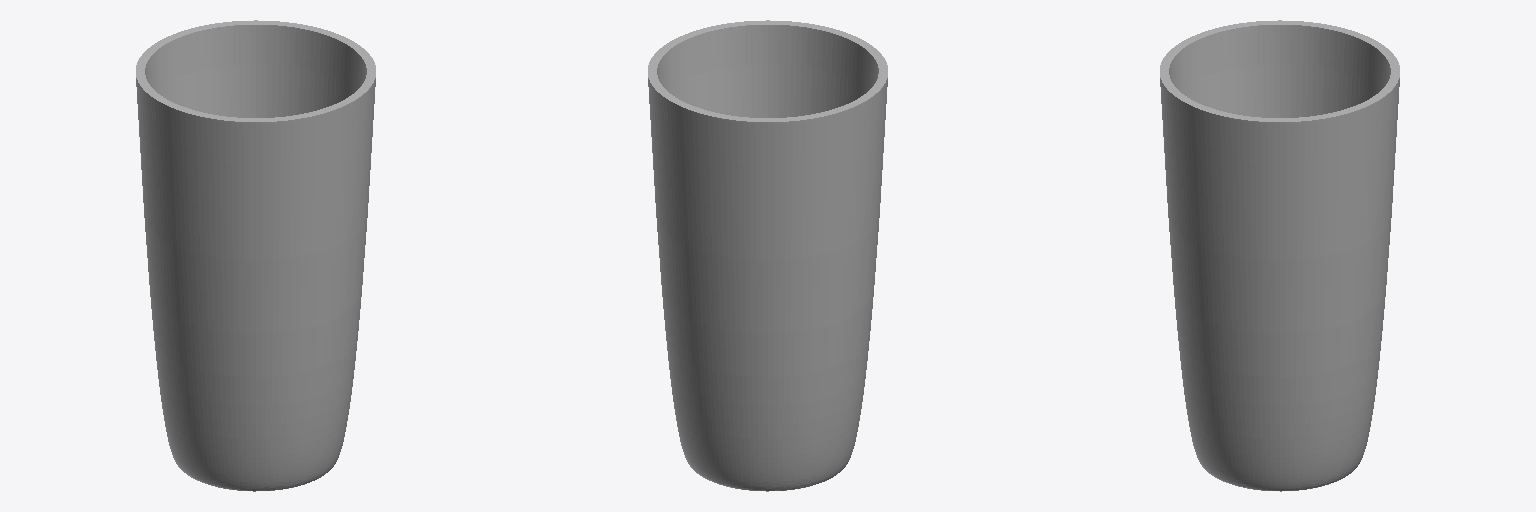
robot.urdf — root:
<robot name="root">
  <link name="link_001">
    <visual>
      <origin xyz="0 0 0" rpy="0 0 0"/>
      <geometry>
        <mesh filename="cup.obj" scale="1.0000E+00 1.0000E+00 1.5000E+00"/>
      </geometry>
      <material name="">
        <color rgba="7.50E-01 7.50E-01 7.50E-01 1"/>
      </material>
    </visual>
    <collision>
      <origin xyz="0 0 0" rpy="0 0 0"/>
      <geometry>
        <mesh filename="cup.obj" scale="1.0000E+00 1.0000E+00 1.5000E+00"/>
      </geometry>
    </collision>
    <inertial>
      <mass value="0.16"/> <!-- 质量：0.1kg -->
    </inertial>
  </link>
</robot>

--- Facts derived from the render (not from the file) ---
Views: 3 orthographic renders of the robot side by side, from view 1: azimuth 30°, elevation 25°; view 2: azimuth 150°, elevation 25°; view 3: azimuth 270°, elevation 25°.
Robot: root — 1 links, 0 joints (none); root link link_001; default pose: every joint at zero.
Visible links, largest first — view 1: link_001; view 2: link_001; view 3: link_001.
Link boxes in pixels (x1,y1,x2,y2): link_001: (136,20,375,491); link_001: (648,20,887,491); link_001: (1160,20,1399,491).
Size in the robot's own frame: 0.0847 by 0.0847 by 0.15 metres.
1 mesh visuals loaded from 1 distinct referenced files (1 OBJ).
